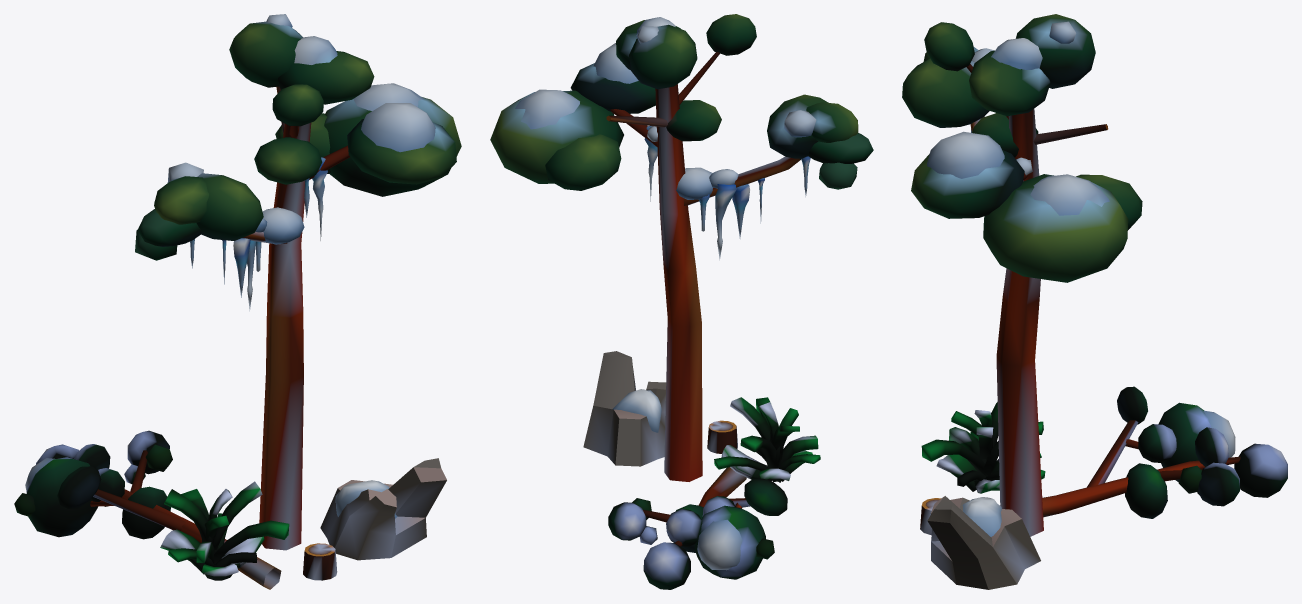
Rendered from Pine_08.fbx.
3 views of the same model, side by side, from view 1: azimuth 30°, elevation 25°; view 2: azimuth 150°, elevation 25°; view 3: azimuth 270°, elevation 25° (orthographic). The views are drawn at different scales.
Parts seen in each view (by area): view 1: Pine_08; view 2: Pine_08; view 3: Pine_08.
Boxes of the visible parts, x1=… form: Pine_08: x1=14, y1=14, x2=461, y2=589; Pine_08: x1=490, y1=14, x2=873, y2=589; Pine_08: x1=902, y1=14, x2=1287, y2=589.
Bounding box in the file's own units: 4725 × 6445 × 4195.
